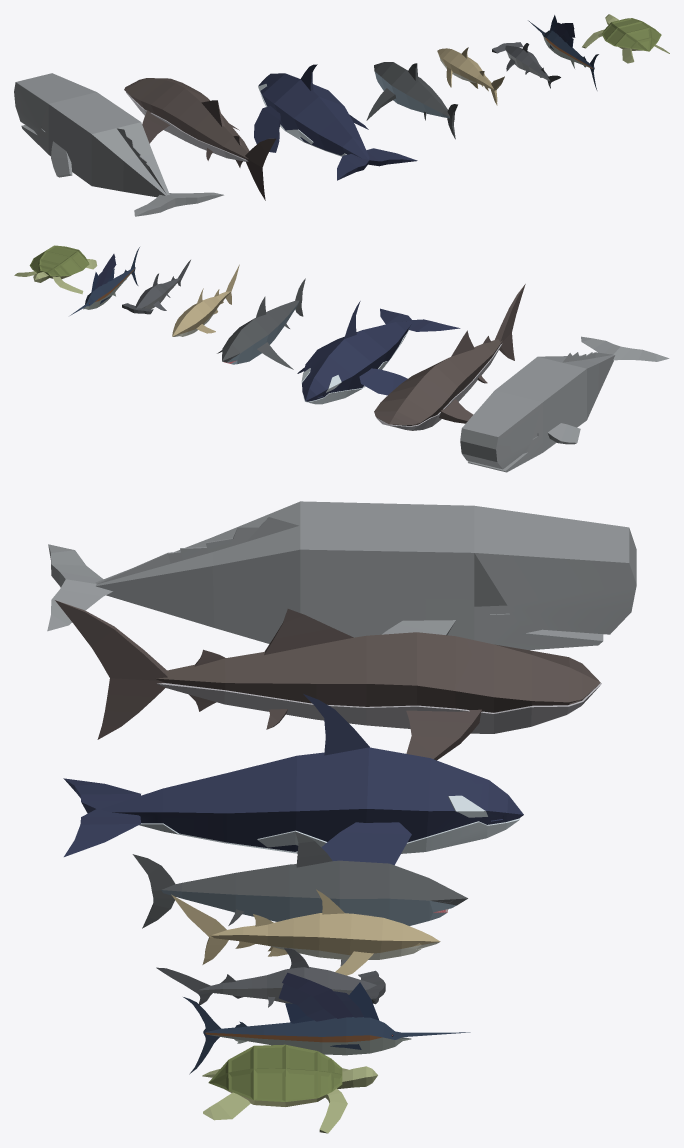
Rendered from Low Poly Pirate Sea Animals.fbx.
3 renders of one model, top to bottom at view 1: azimuth 30°, elevation 25°; view 2: azimuth 150°, elevation 25°; view 3: azimuth 270°, elevation 25°, orthographic. The views are drawn at different scales.
Visible parts, largest first — view 1: Whale, Grampus, WhaleShark, Shark_1, Turtle, Shark_2, Swordfish, Hammerhad_Shark; view 2: Whale, WhaleShark, Grampus, Shark_1, Turtle, Shark_2, Swordfish, Hammerhad_Shark; view 3: Whale, WhaleShark, Grampus, Shark_1, Shark_2, Swordfish, Turtle, Hammerhad_Shark.
Boxes of the visible parts, box(x1,y1,x2,y2) form: Whale: box(14, 73, 223, 216); Grampus: box(254, 64, 417, 180); WhaleShark: box(124, 78, 275, 200); Shark_1: box(366, 62, 457, 139); Turtle: box(582, 14, 669, 63); Shark_2: box(437, 47, 504, 105); Swordfish: box(528, 15, 598, 90); Hammerhad_Shark: box(492, 42, 560, 88); Whale: box(460, 336, 669, 472); WhaleShark: box(374, 284, 525, 430); Grampus: box(297, 301, 460, 404); Shark_1: box(217, 278, 305, 369); Turtle: box(14, 245, 97, 294); Shark_2: box(172, 264, 239, 336); Swordfish: box(70, 247, 139, 315); Hammerhad_Shark: box(122, 260, 190, 314); Whale: box(47, 501, 636, 650); WhaleShark: box(55, 600, 601, 760); Grampus: box(63, 694, 523, 865); Shark_1: box(132, 831, 467, 966); Shark_2: box(171, 889, 440, 975); Swordfish: box(183, 972, 470, 1074); Turtle: box(202, 1044, 377, 1133); Hammerhad_Shark: box(156, 948, 385, 1007).
Size of the model in its own units: 446 by 58.42 by 194.
Materials: 1 (1 with a texture image).
